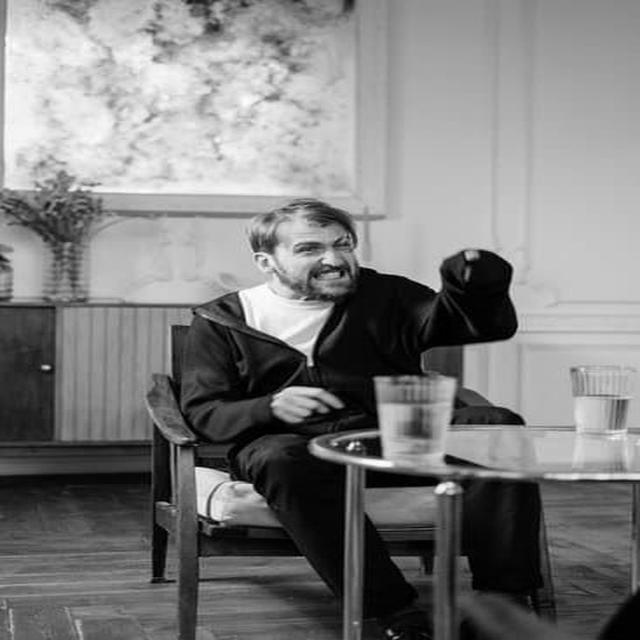Angry: (274, 219, 359, 301)
